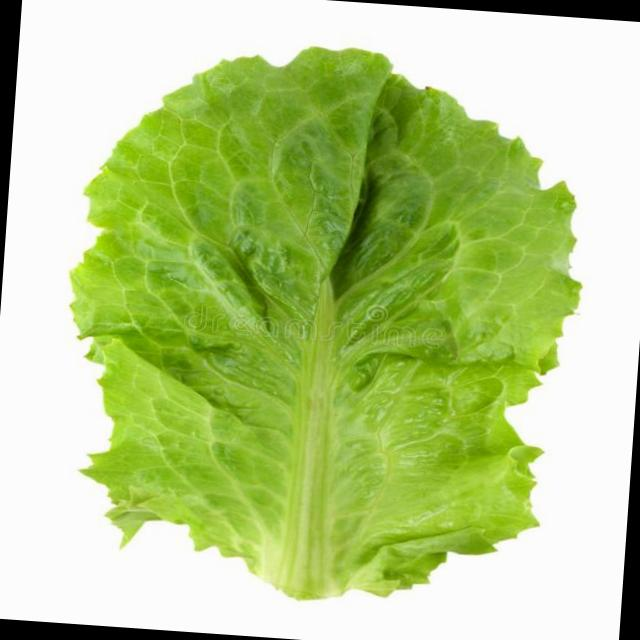Lettuce-Ready-to-Harvest: (72, 48, 578, 597)
